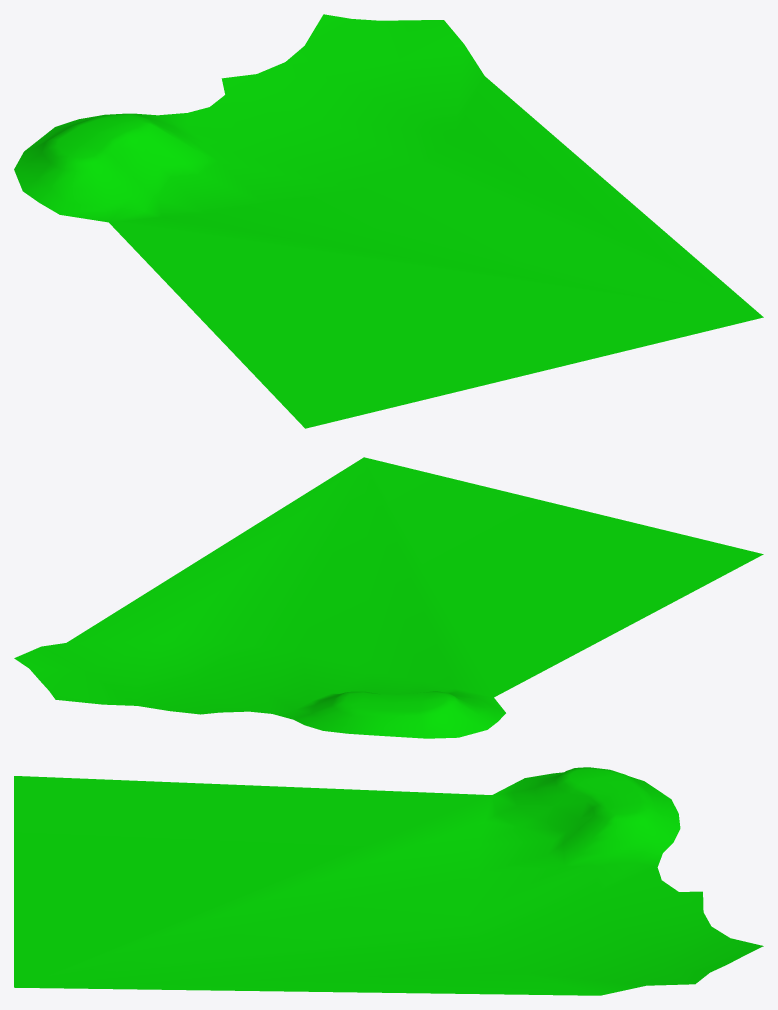
Rendered from WaterFloorFrontMiddle.glb.
The picture shows the model from 3 angles, top to bottom: view 1: azimuth 30°, elevation 25°; view 2: azimuth 150°, elevation 25°; view 3: azimuth 270°, elevation 25°; orthographic projection. The views are drawn at different scales.
Visible parts, largest first — view 1: WaterFloorFrontMiddle; view 2: WaterFloorFrontMiddle; view 3: WaterFloorFrontMiddle.
Boxes of the visible parts, x1=… form: WaterFloorFrontMiddle: x1=14, y1=14, x2=763, y2=428; WaterFloorFrontMiddle: x1=14, y1=457, x2=763, y2=738; WaterFloorFrontMiddle: x1=14, y1=767, x2=763, y2=995.
Size of the model in its own units: 42.78 by 3.75 by 58.93.
